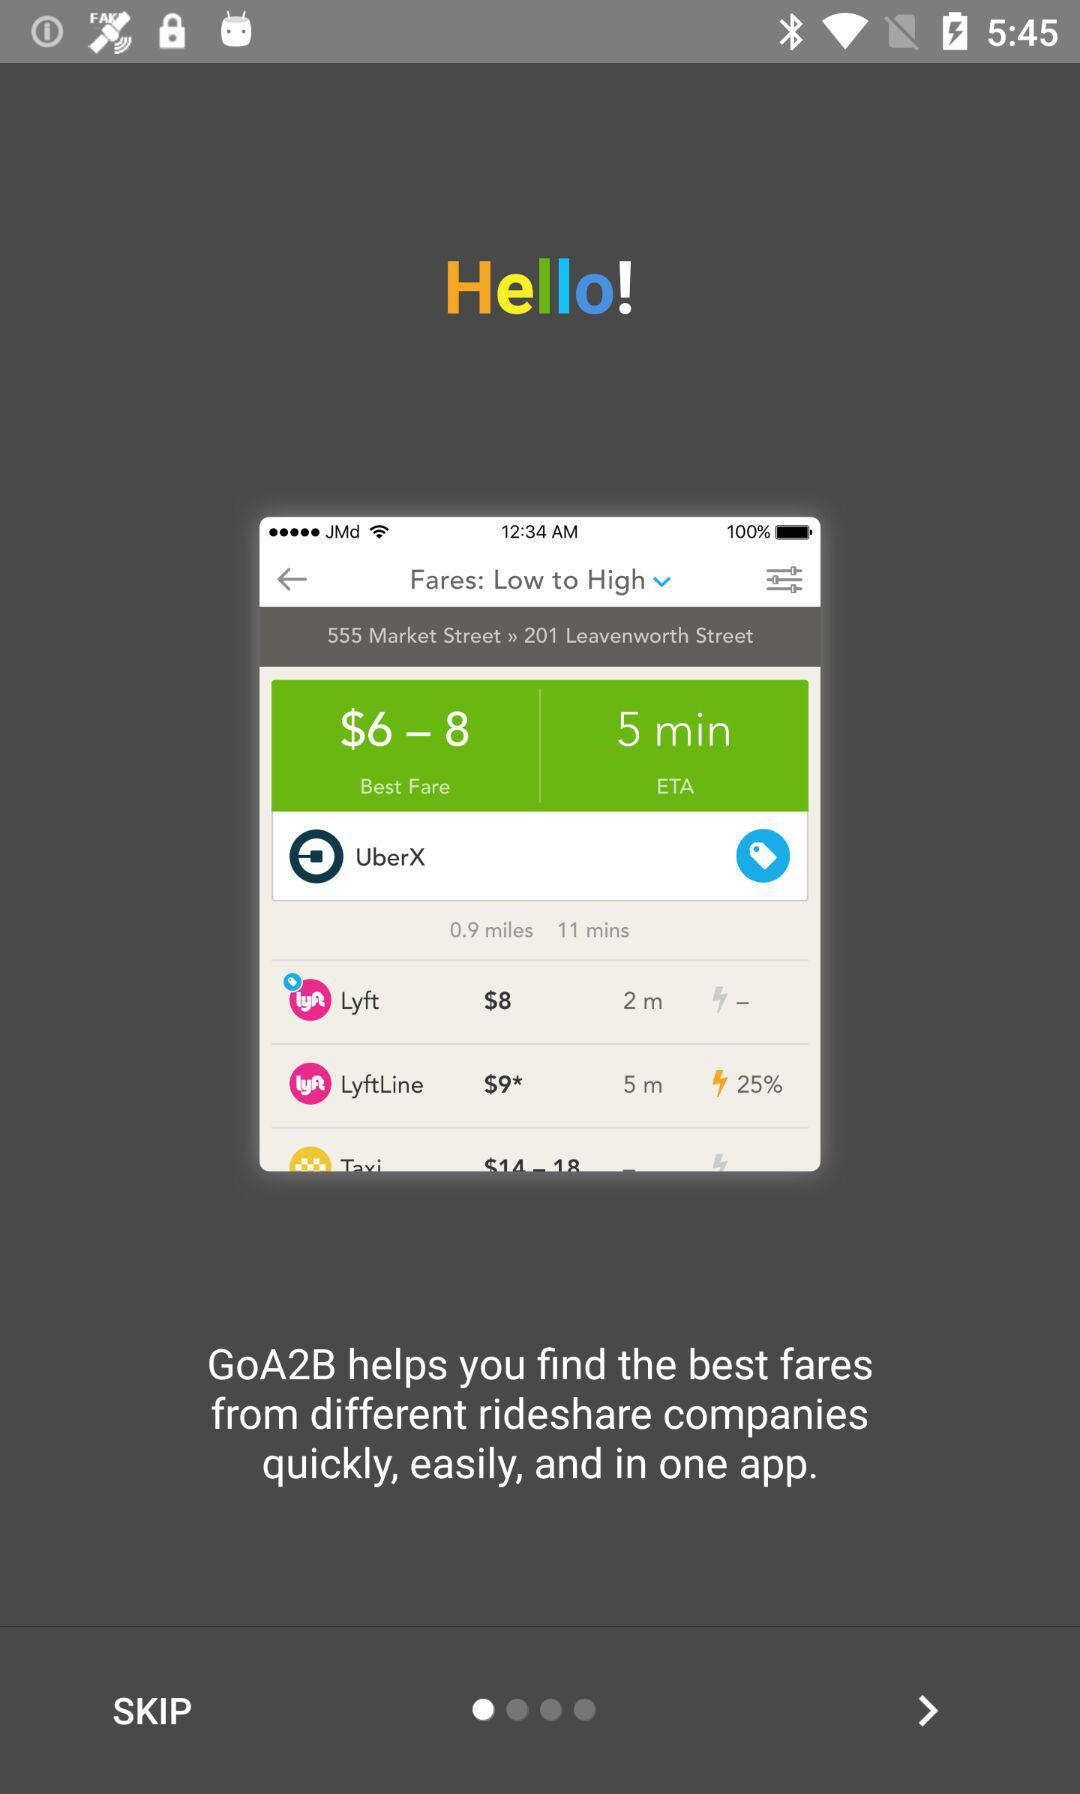Icon: (916, 1693, 940, 1727)
Image: (258, 516, 822, 1173), (446, 258, 634, 317)
PageIndicator: (471, 1697, 600, 1724)
Text: (208, 1345, 874, 1490), (113, 1697, 193, 1727)
UpperTaskBar: (1, 1, 1080, 64)
